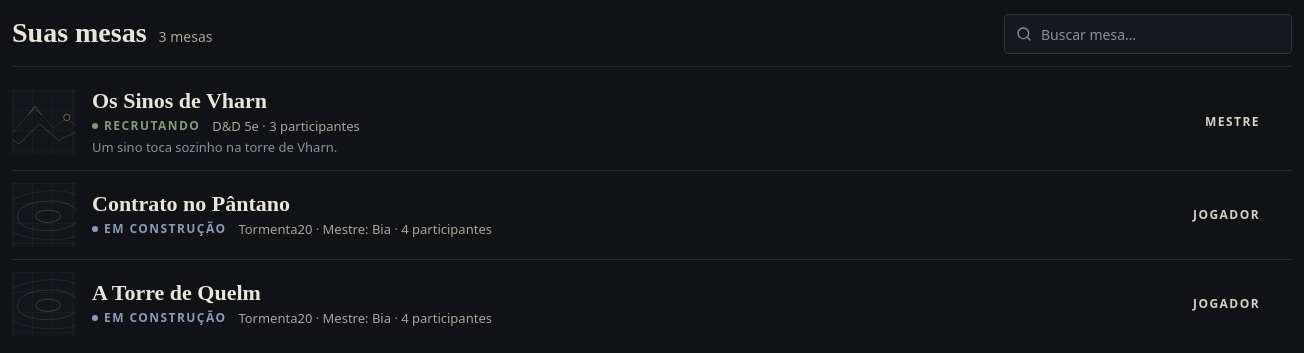
Scenario: CampaignList › searching "vharn" leaves one row and counts "1 mesa"
Step 1. Type "vharn" into the search field labelled "Buscar mesa" → (1148, 34), box [1004,14,1292,54]
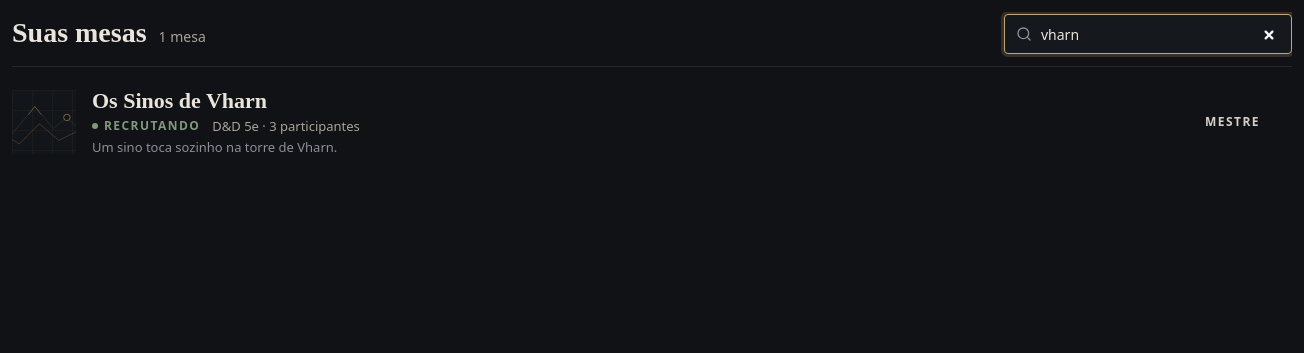
Expected: the number of list items is 1, [12,75,1292,170]
Expected: the text "1 mesa" is shown, [159,27,206,47]
